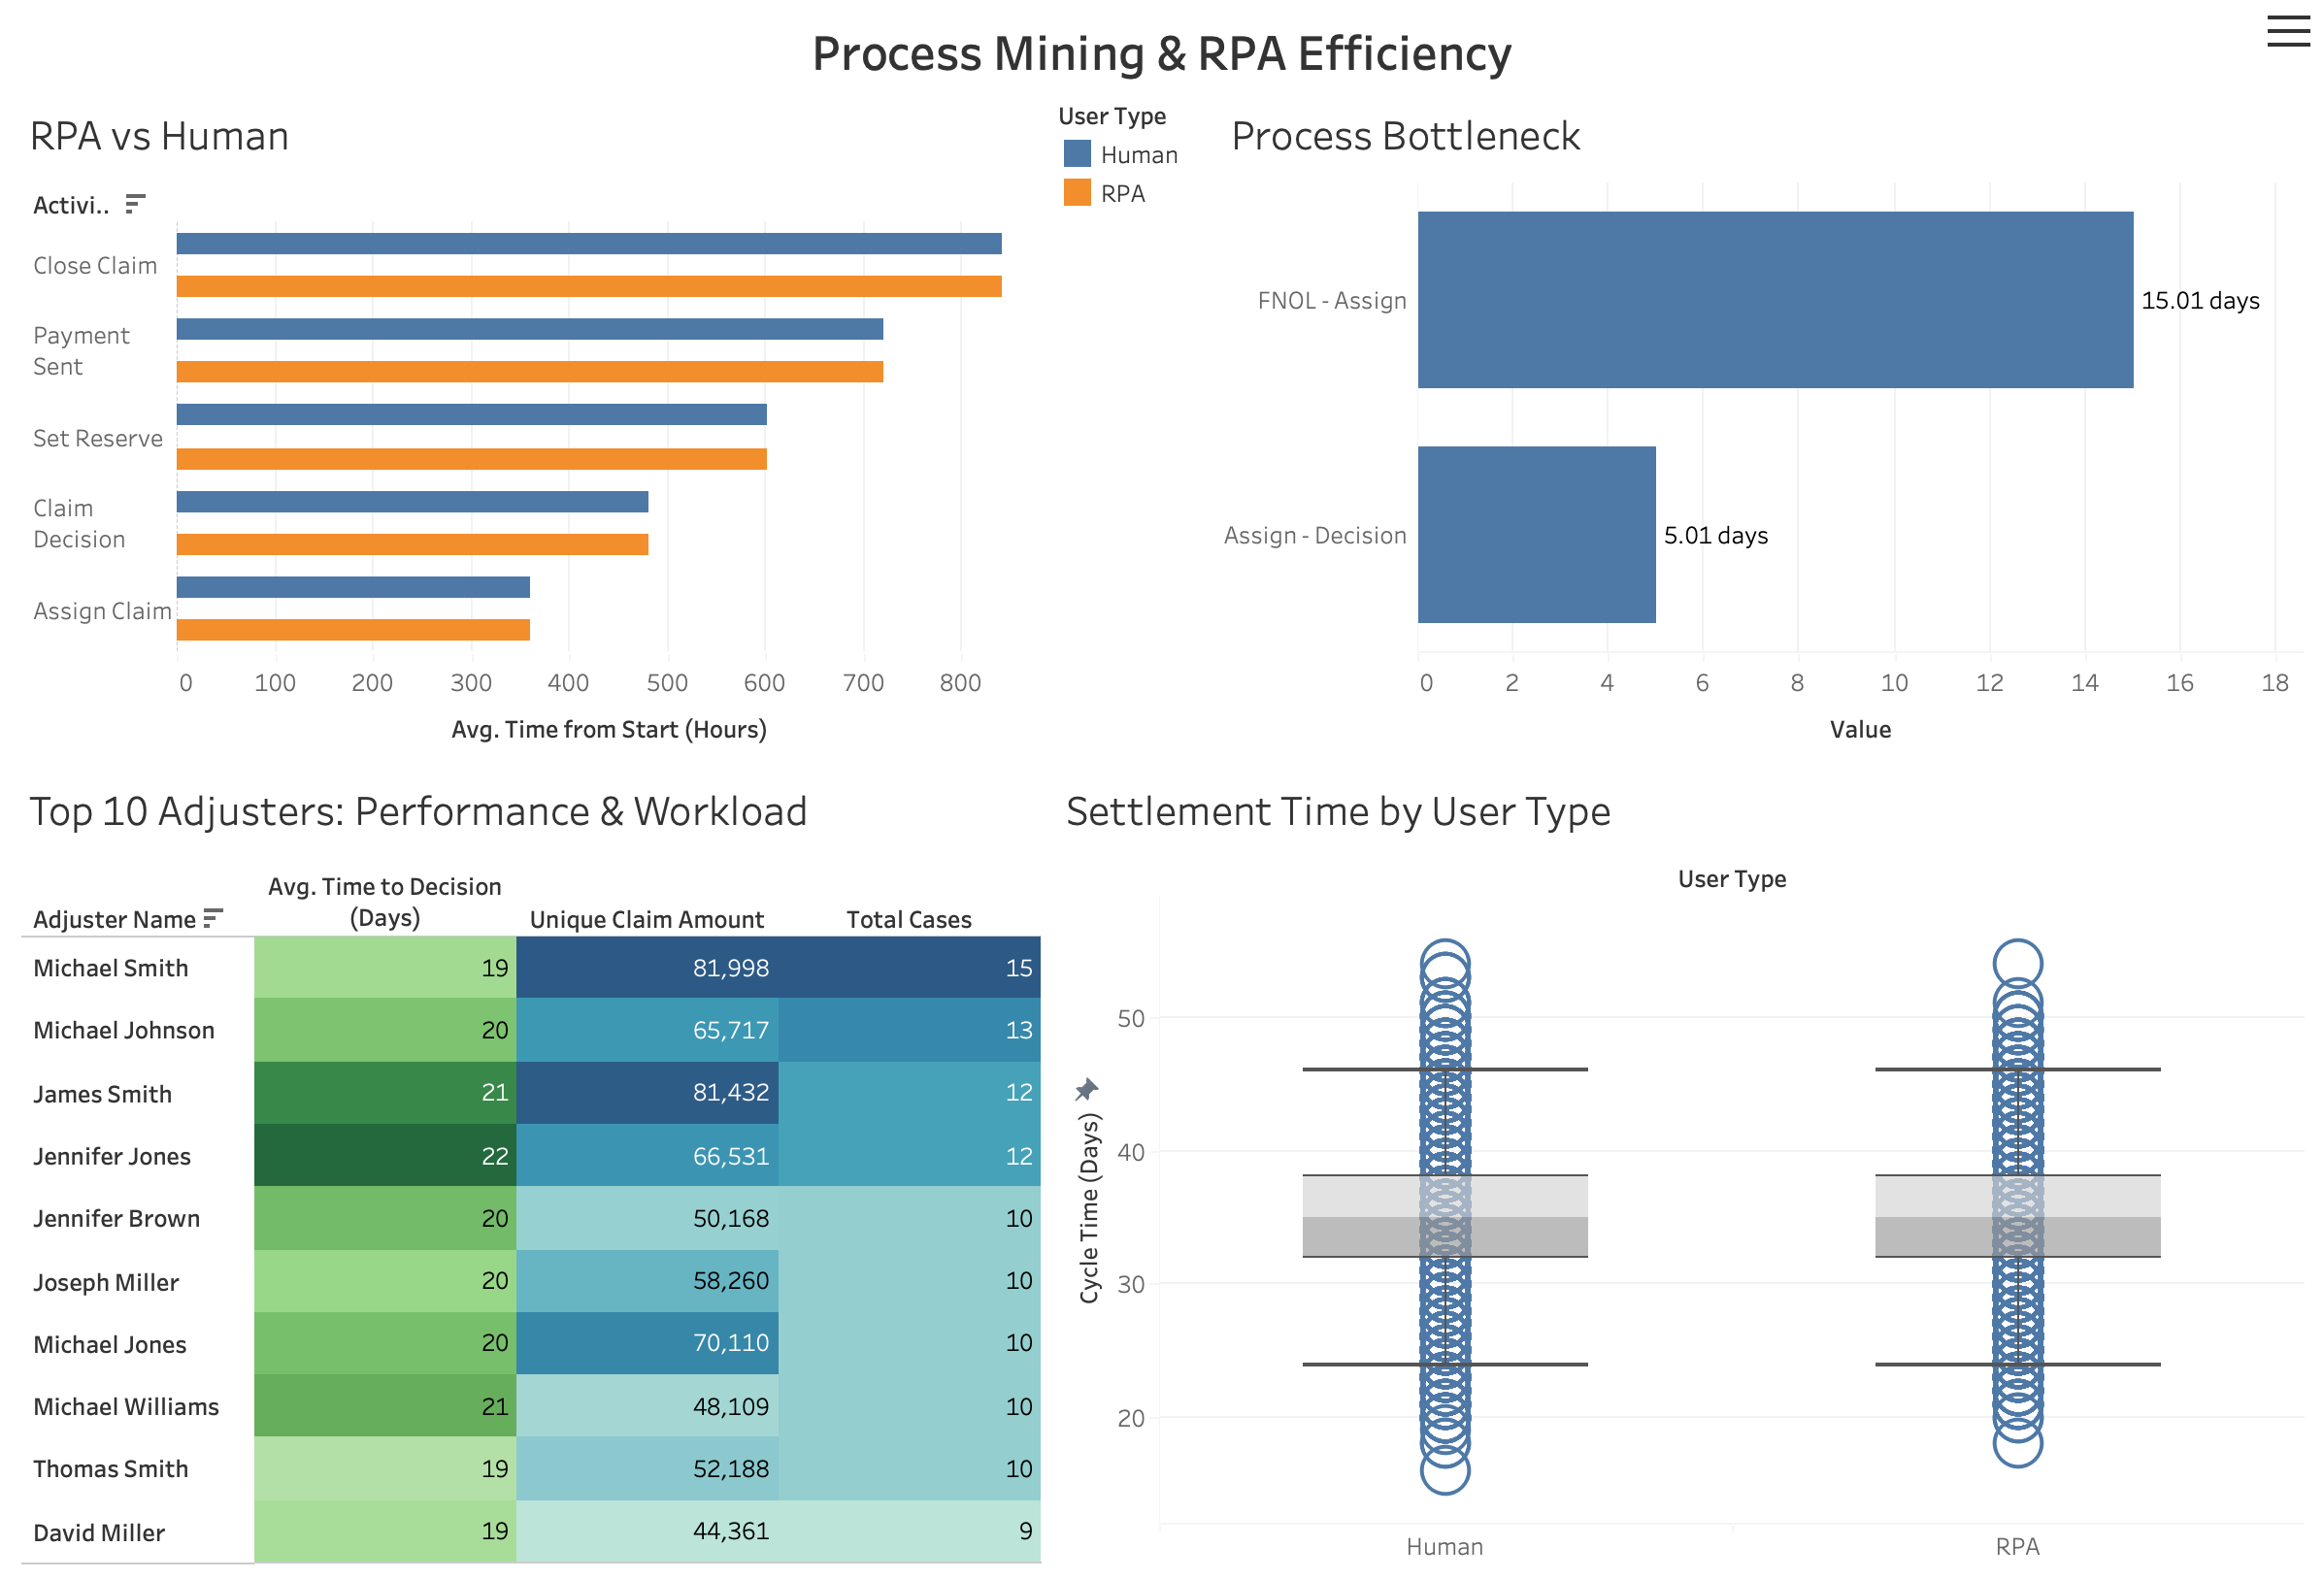

What the dashboard file says about the page in this screenshot:
{"tool":"tableau","page":{"name":"Process Mining & RPA Efficiency","canvas":[1200,820],"ordinal":1},"visuals":[{"type":"dashboard-object","box":[1168,6,24,24]},{"type":"title","box":[8,8,1184,41]},{"type":"filter","title":"Process Bottleneck","param":"[federated.0374fw910j7fbg14hb0lf022ywgr].[none:timestamp:qk]","box":[1031,33,158,45]},{"type":"worksheet","title":"RPA vs Human","mark":"Bar","rows":["activity_name","user_type"],"cols":["Calculation_3815408232329224"],"box":[8,49,534,348]},{"type":"legend","title":"RPA vs Human","param":"[federated.0374fw910j7fbg14hb0lf022ywgr].[none:user_type:nk]","box":[542,49,85,348]},{"type":"worksheet","title":"Process Bottleneck","mark":"Automatic","box":[627,49,565,348]},{"type":"filter","title":"Process Bottleneck","param":"[federated.0374fw910j7fbg14hb0lf022ywgr].[none:car_make:nk]","box":[1031,78,158,32]},{"type":"filter","title":"Process Bottleneck","param":"[federated.0374fw910j7fbg14hb0lf022ywgr].[none:car_model:nk]","box":[1031,110,158,32]},{"type":"filter","title":"Process Bottleneck","param":"[federated.0374fw910j7fbg14hb0lf022ywgr].[none:car_year:qk]","box":[1031,142,158,66]},{"type":"filter","title":"Process Bottleneck","param":"[federated.0374fw910j7fbg14hb0lf022ywgr].[none:type_of_accident:nk]","box":[1031,208,158,32]},{"type":"filter","title":"Process Bottleneck","param":"[federated.0374fw910j7fbg14hb0lf022ywgr].[none:type_of_policy:nk]","box":[1031,240,158,32]},{"type":"filter","title":"Process Bottleneck","param":"[federated.0374fw910j7fbg14hb0lf022ywgr].[none:user_type:nk]","box":[1031,272,158,32]},{"type":"worksheet","title":"Top 10 Adjusters: Performance & Workload","mark":"Square","rows":["adjuster_name"],"box":[8,397,534,415]},{"type":"worksheet","title":"Settlement Time by User Type","mark":"Shape","rows":["Calculation_3815408208318468"],"cols":["user_type"],"box":[542,397,650,415]}]}

Visuals, with their boxes in screenshot pixels (x1, y1, x2, y2), scaled from the page's 1200x820 canvas onto the 2324x1580 screenshot:
dashboard-object: 2262, 12, 2308, 58
title: 16, 16, 2308, 94
"Process Bottleneck" filter: 1997, 64, 2303, 150
"RPA vs Human" worksheet (Bar marks): 16, 94, 1049, 765
"RPA vs Human" legend: 1049, 94, 1214, 765
"Process Bottleneck" worksheet: 1214, 94, 2308, 765
"Process Bottleneck" filter: 1997, 150, 2303, 212
"Process Bottleneck" filter: 1997, 212, 2303, 274
"Process Bottleneck" filter: 1997, 274, 2303, 401
"Process Bottleneck" filter: 1997, 401, 2303, 462
"Process Bottleneck" filter: 1997, 462, 2303, 524
"Process Bottleneck" filter: 1997, 524, 2303, 586
"Top 10 Adjusters: Performance & Workload" worksheet (Square marks): 16, 765, 1049, 1564
"Settlement Time by User Type" worksheet (Shape marks): 1049, 765, 2308, 1564
